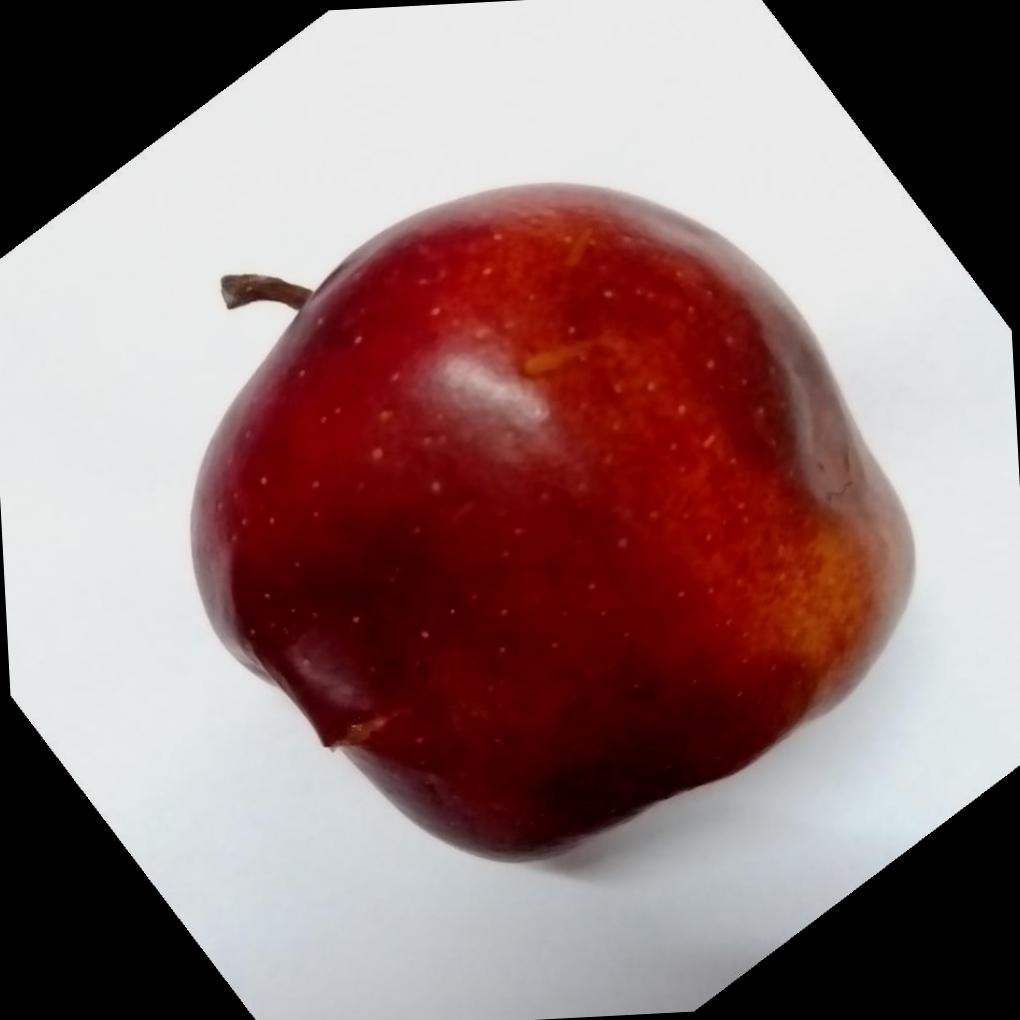FreshOrange: (187, 176, 915, 859)
